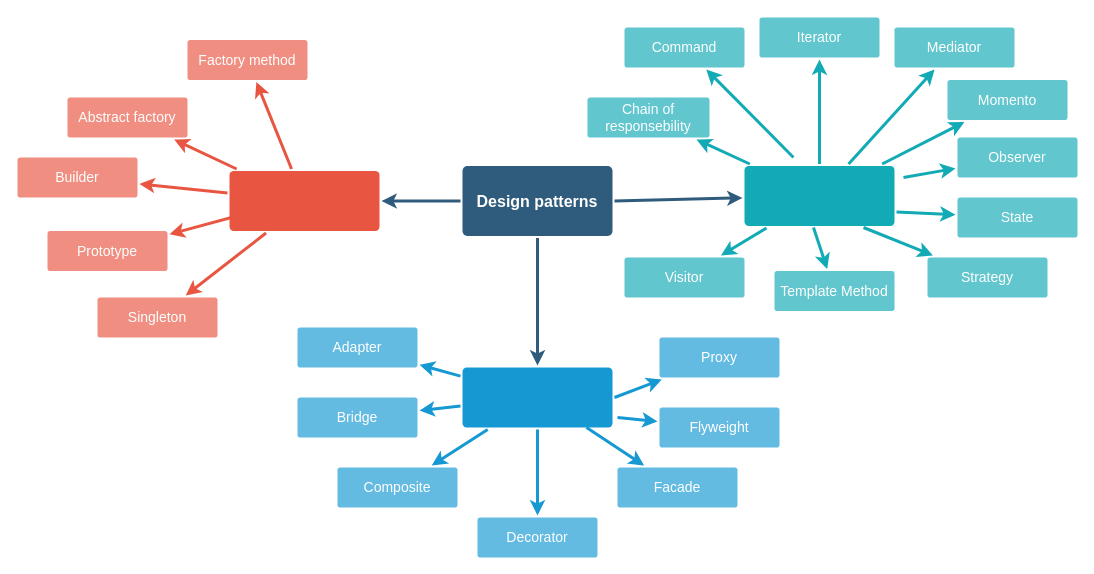
This 1094x574 diagram has some shape labels left out. The box of each missing label's shape, as (x1, y1, x2, y2) in pixels:
Behavioral: (744, 166, 894, 226)
Creational: (229, 170, 379, 230)
Structural: (462, 367, 612, 427)
